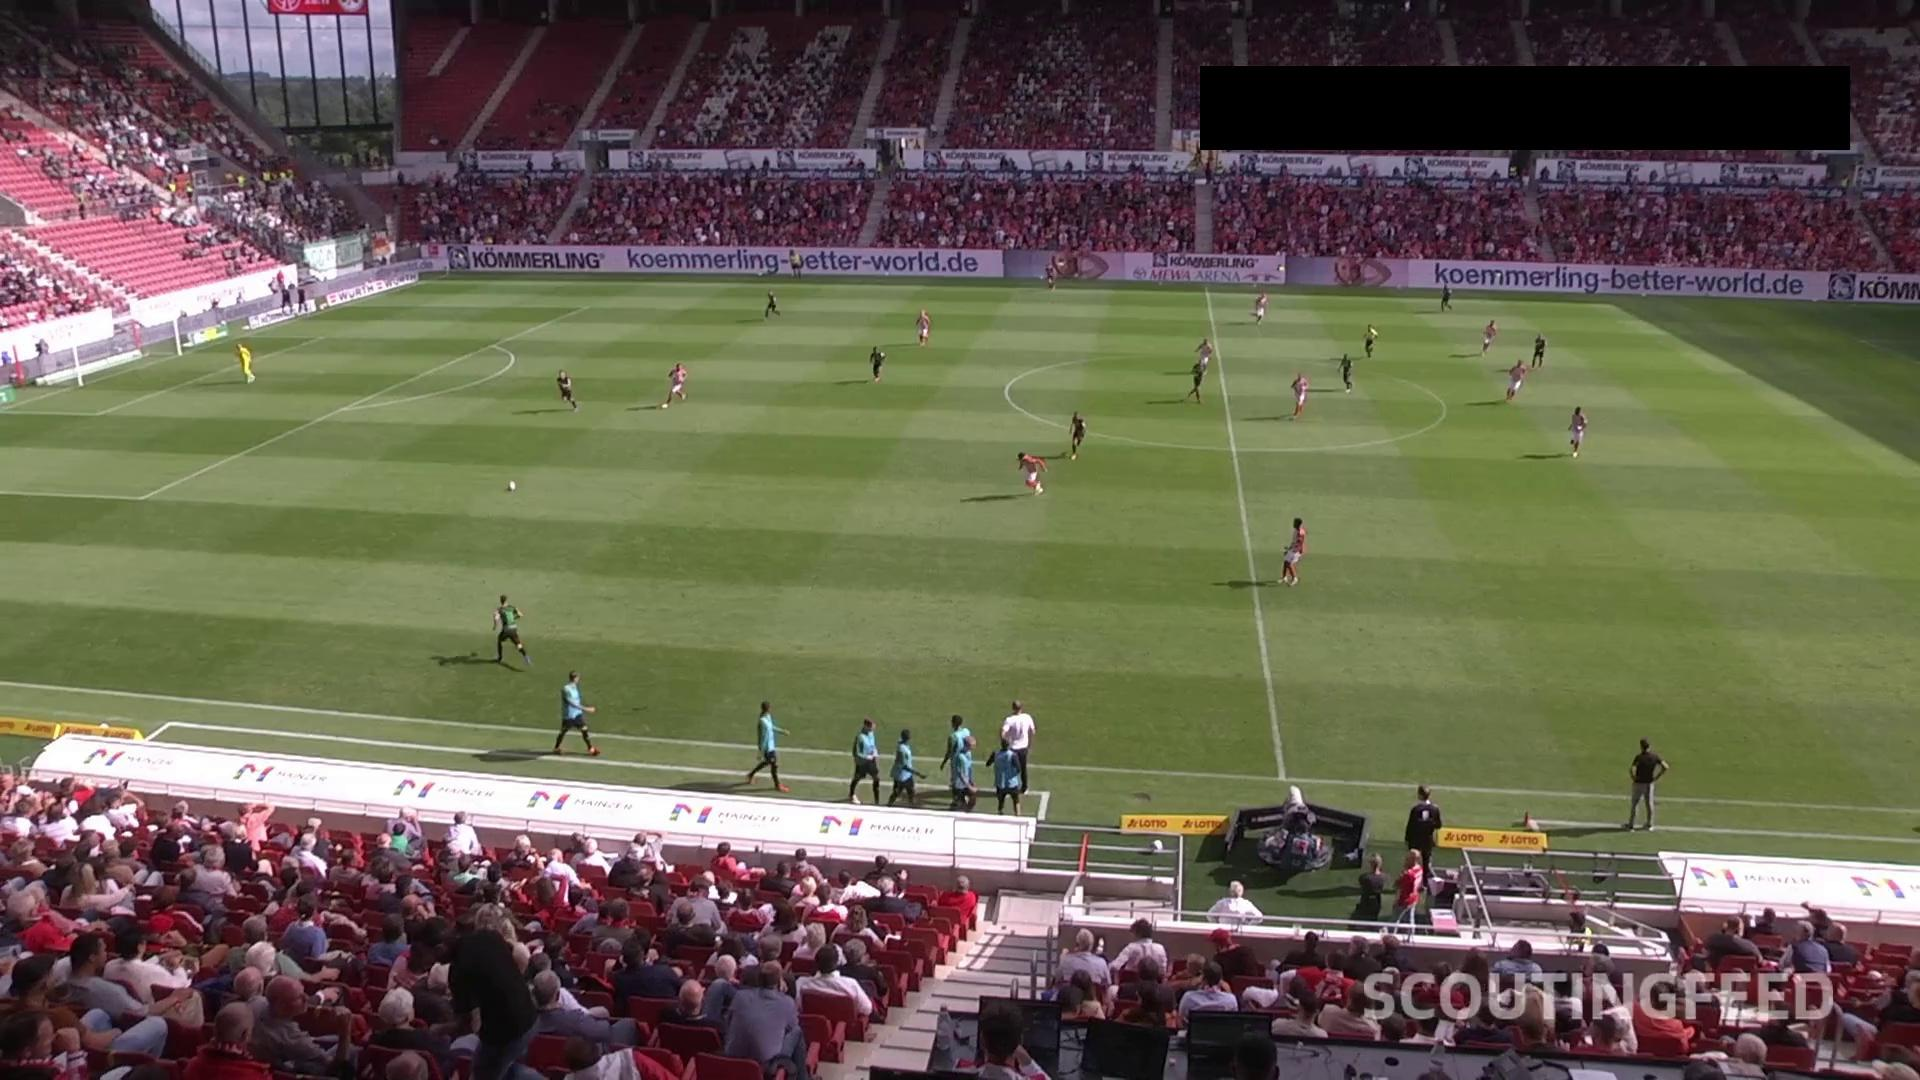Location-of-ball: (497, 469, 533, 501)
